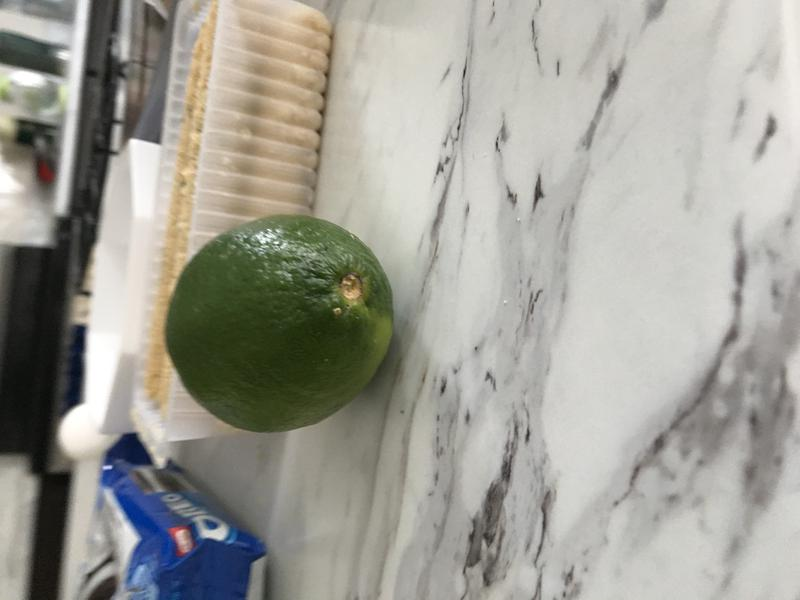lime: (151, 200, 410, 441)
